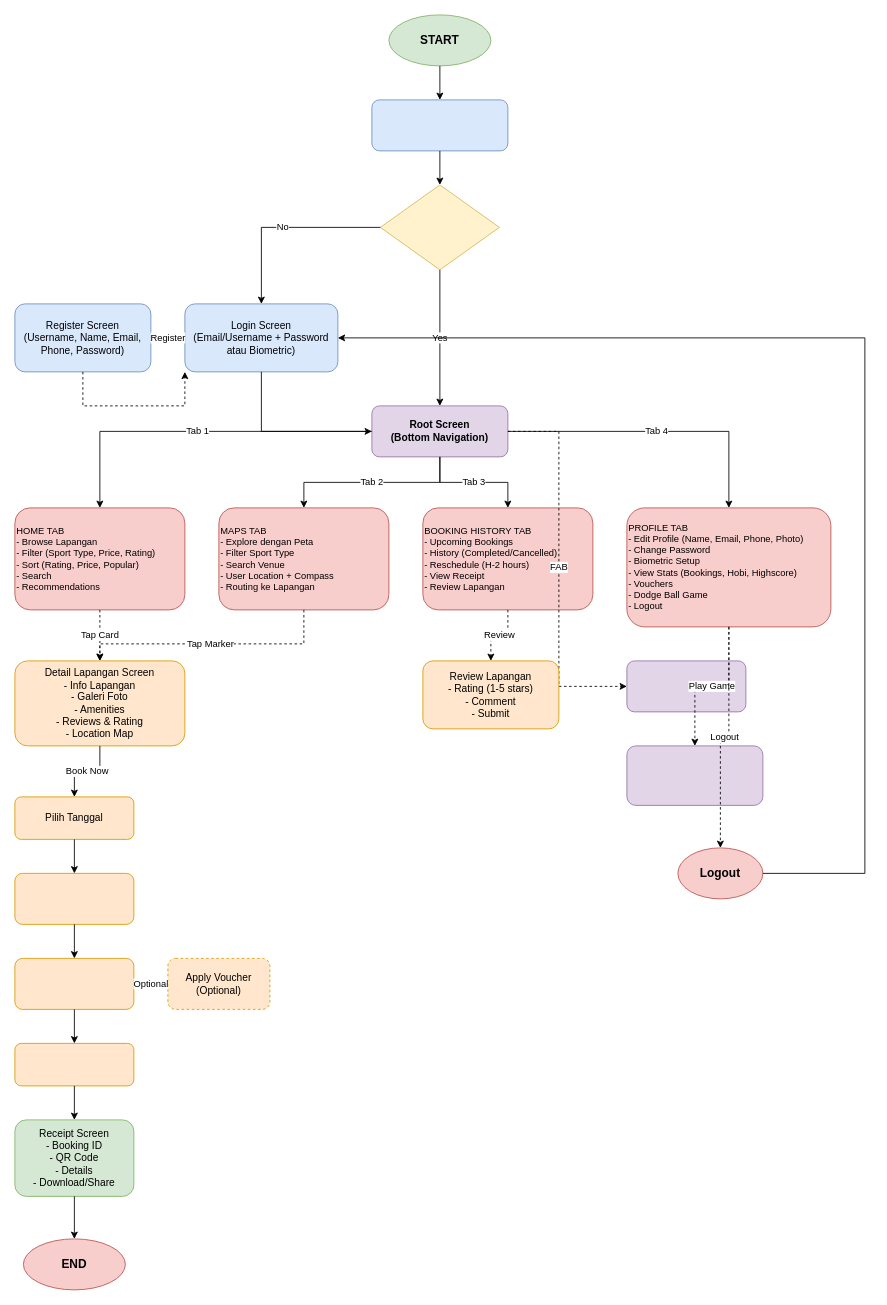
Image size: 887x1305. Some labels were removed from this diagram. Each missing label, with the centre of its shape:
"Chat Support (Draggable FAB)" belongs at (x=686, y=686).
"Check Auto-Login?" belongs at (x=439, y=227).
"Confirm Booking" belongs at (x=74, y=1064).
"Dodge Ball Game - Highscore Tracking - Leaderboard" belongs at (x=694, y=775).
"Payment Method (QRIS, Transfer, E-Wallet)" belongs at (x=74, y=983).
"Pilih Jam (Multiple Selection)" belongs at (x=74, y=898).
"Splash Screen" belongs at (x=439, y=125).
